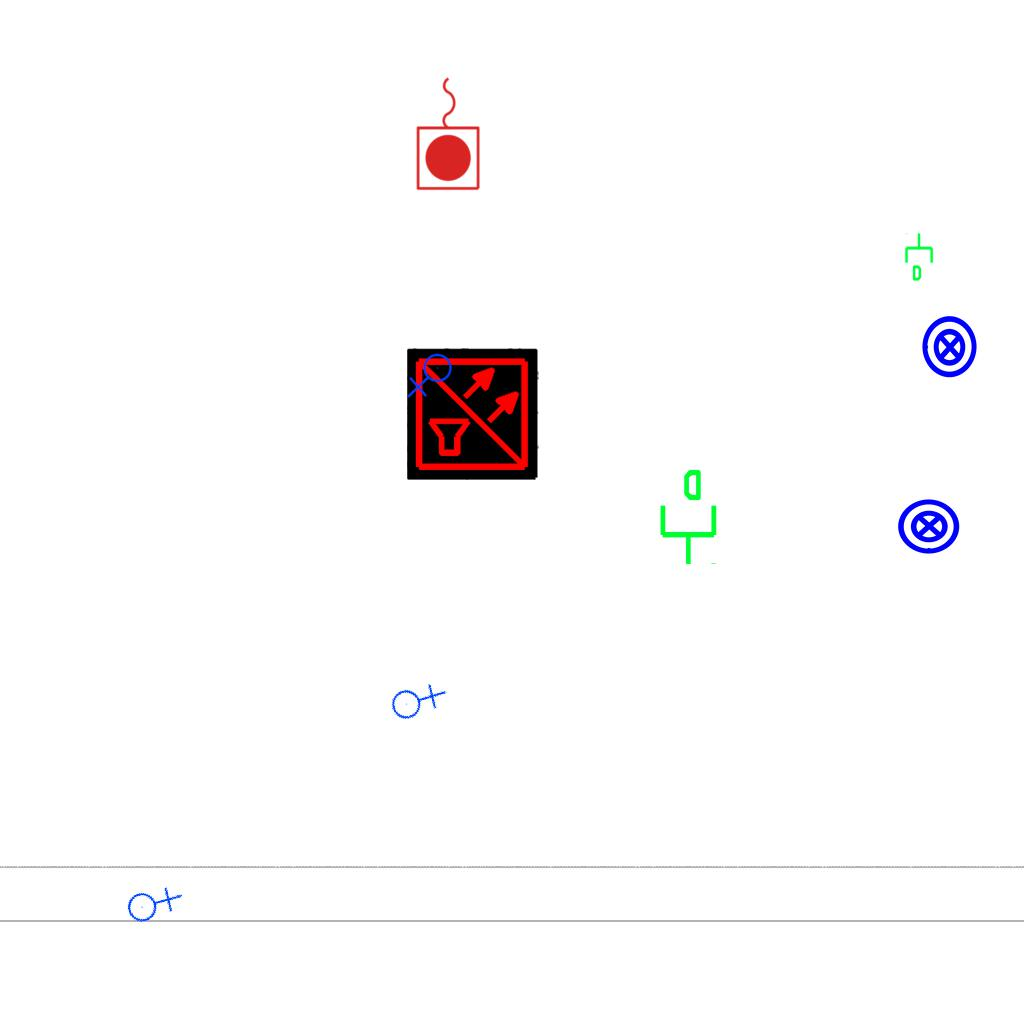Datenanschluss_einfach: (652, 467, 721, 567), (903, 232, 937, 282)
Elektroanschluss_allgemein_230V_Geraeteanschlussdose_230V: (118, 870, 185, 935), (383, 667, 448, 732), (407, 353, 456, 400)
OKW_Multisensormelder_(Kombination_optischer_Rauch-Kahlenmonoxid_Waerme-Melder): (407, 348, 539, 480)
Taster_beleuchtet: (896, 493, 962, 559), (917, 314, 983, 380)
Zugtaster: (413, 72, 485, 194)
